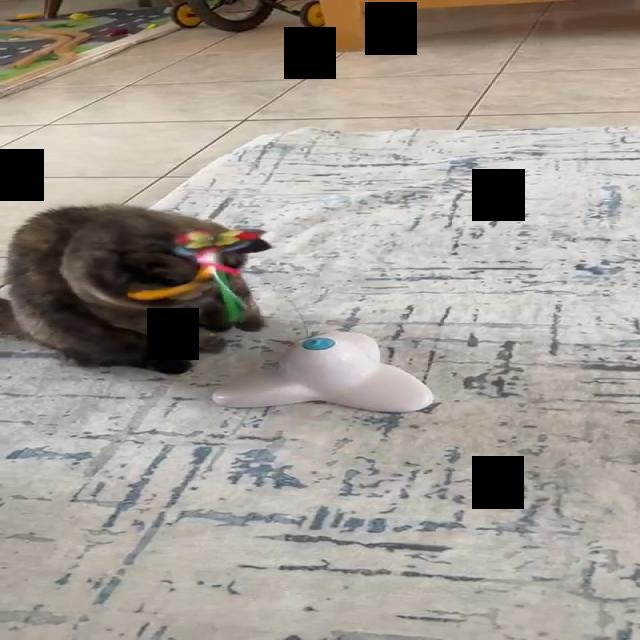authorized: (0, 202, 271, 375)
